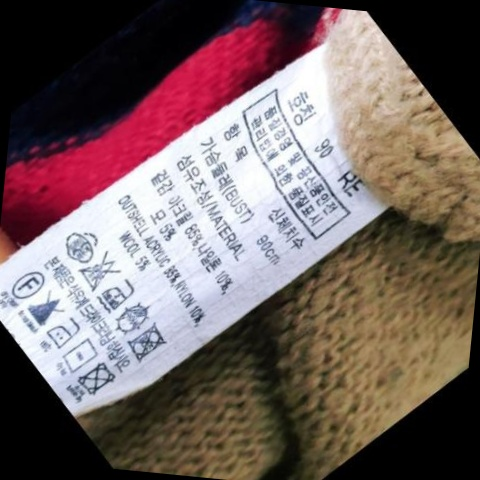DN_bleach: (26, 294, 65, 329), (85, 253, 122, 289)
DN_tumble_dry: (131, 321, 168, 363), (80, 362, 121, 397)
dry_clean_petrol_only: (64, 225, 102, 264), (10, 267, 48, 302)
dry_flat: (63, 337, 104, 374)
dry_flat_in_shade: (115, 299, 153, 336)
iron_medium: (100, 275, 141, 313), (47, 318, 82, 350)
